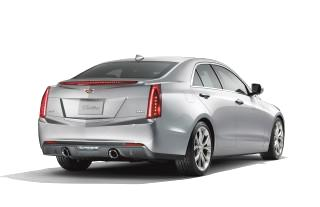cadillac: (81, 85, 97, 95)
